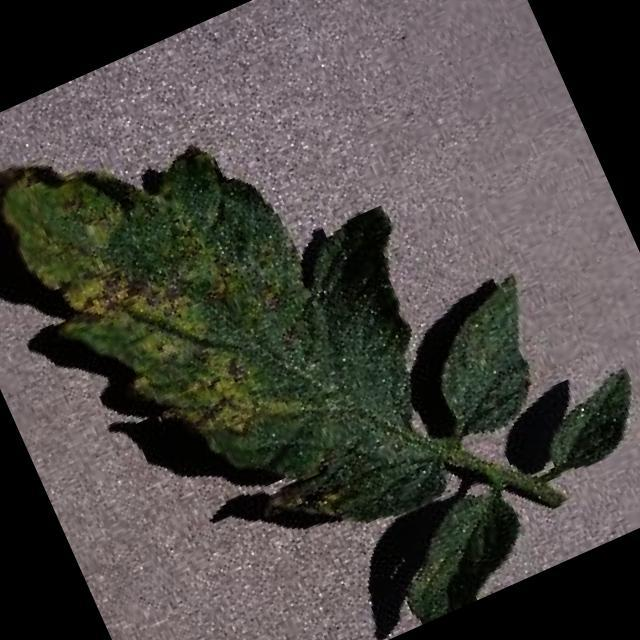Tomato Septoria spot leaf: (0, 34, 496, 612)
